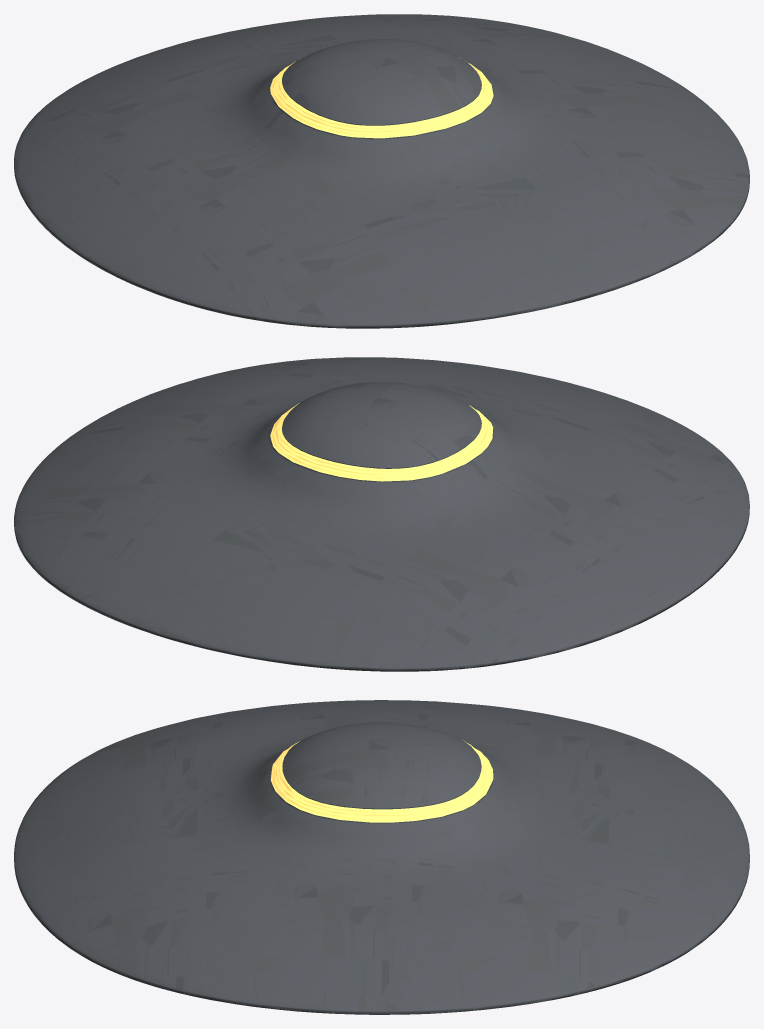
File: ufo-v1.glb
3 renders of one model, top to bottom at view 1: azimuth 30°, elevation 25°; view 2: azimuth 150°, elevation 25°; view 3: azimuth 270°, elevation 25°, orthographic. The views are drawn at different scales.
Visible parts, largest first — view 1: UFO_UFO Metal_0, UFO_Ventanilla_0; view 2: UFO_UFO Metal_0, UFO_Ventanilla_0; view 3: UFO_UFO Metal_0, UFO_Ventanilla_0.
Part boxes in pixels (x1,y1,x2,y2): UFO_UFO Metal_0: [14, 14, 749, 328]; UFO_Ventanilla_0: [270, 57, 493, 138]; UFO_UFO Metal_0: [14, 357, 749, 671]; UFO_Ventanilla_0: [270, 403, 493, 481]; UFO_UFO Metal_0: [14, 700, 749, 1014]; UFO_Ventanilla_0: [270, 740, 493, 822].
Size of the model in its own units: 9.37 by 2.49 by 9.37.
3 materials, 2 textured.
